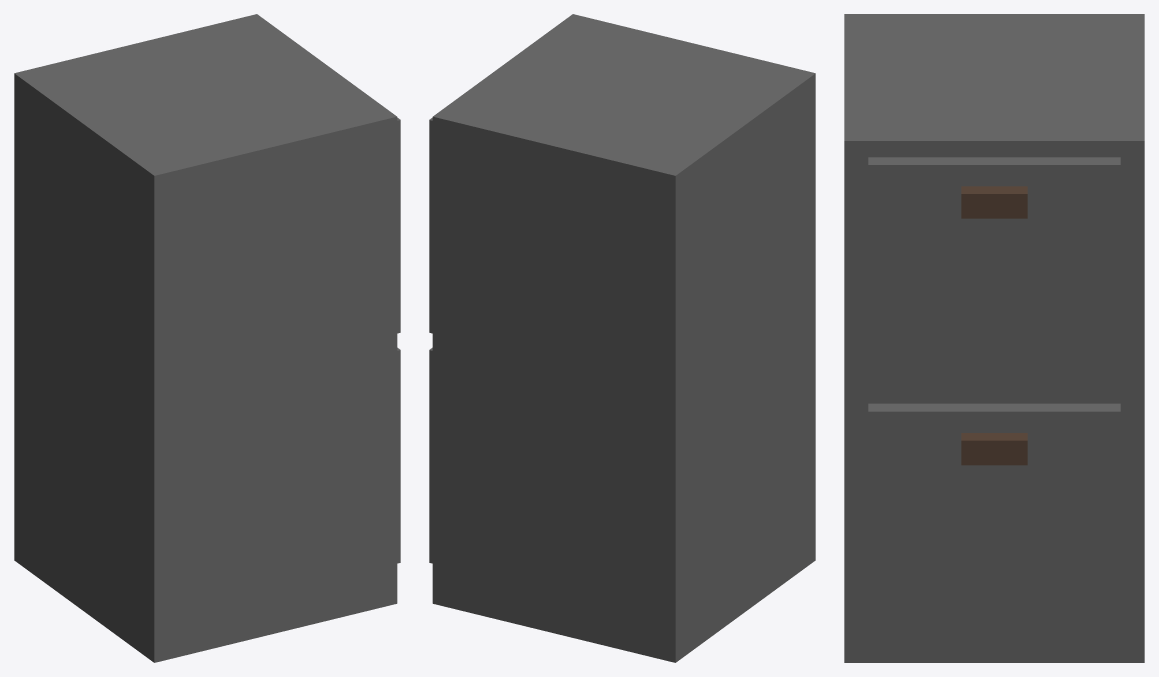
Rendered from MetalCabinet.fbx.
3 views of the same model, side by side, from view 1: azimuth 30°, elevation 25°; view 2: azimuth 150°, elevation 25°; view 3: azimuth 270°, elevation 25° (orthographic). The views are drawn at different scales.
Parts seen in each view (by area): view 1: Cube, Cube.002; view 2: Cube, Cube.002; view 3: Cube.002, Cube, Cube.005.
Boxes of the visible parts, bbox=[...] form: Cube: bbox=[14, 14, 397, 662]; Cube.002: bbox=[397, 117, 400, 563]; Cube: bbox=[432, 14, 815, 662]; Cube.002: bbox=[429, 117, 432, 563]; Cube.002: bbox=[868, 157, 1120, 639]; Cube: bbox=[844, 14, 1144, 662]; Cube.005: bbox=[961, 186, 1027, 465].
Size of the model in its own units: 224 by 383 by 200.
Materials: 3 (3 with a texture image).
